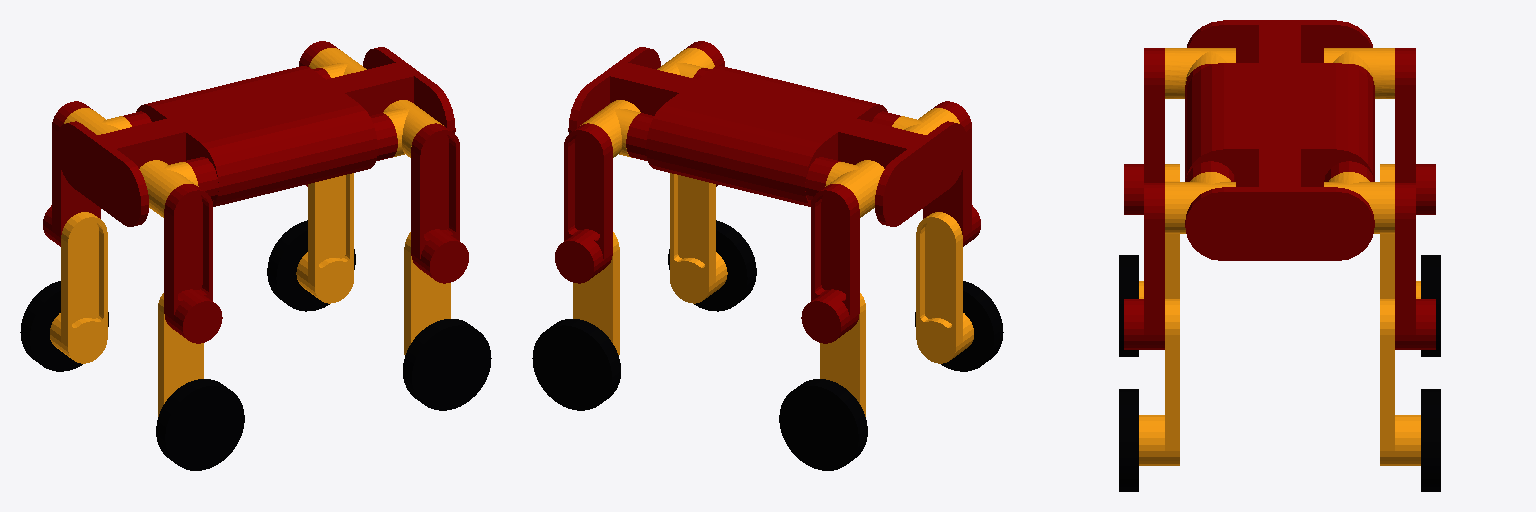
robot.urdf — M20:
<?xml version="1.0" encoding="utf-8"?>
<!-- This URDF was automatically created by SolidWorks to URDF Exporter! Originally created by Stephen Brawner (brawner@gmail.com) 
     Commit Version: 1.6.0-4-g7f85cfe  Build Version: 1.6.7995.38578
     For more information, please see http://wiki.ros.org/sw_urdf_exporter -->
<robot
  name="M20">
  <link
    name="base_link">
    <inertial>
      <origin
        xyz="0.00000000 0.00000000 0.00000000"
        rpy="0 0 0" />
      <mass
        value="5.40000000" />
      <inertia
        ixx="0.05712348"
        ixy="0.00000000"
        ixz="0.00000000"
        iyy="0.20307764"
        iyz="0.00000000"
        izz="0.24210920" />
    </inertial>
    <visual>
      <origin
        xyz="0 0 0"
        rpy="0 0 0" />
      <geometry>
        <mesh
          filename="../meshes/base_link.STL" />
      </geometry>
      <material
        name="ironman_red">
        <color
          rgba="0.55 0.02 0.02 1" />
      </material>
    </visual>
    <collision>
      <origin
        xyz="0 0 0"
        rpy="0 0 0" />
      <geometry>
        <mesh
          filename="../meshes/base_link.STL" />
      </geometry>
    </collision>
  </link>
  <link
    name="fr_hipx">
    <inertial>
      <origin
        xyz="-0.00547403 -0.01777122 0.00000000"
        rpy="0 0 0" />
      <mass
        value="0.65000000" />
      <inertia
        ixx="0.00143521"
        ixy="0.00006323"
        ixz="0.00000000"
        iyy="0.00094994"
        iyz="0.00000000"
        izz="0.00152887" />
    </inertial>
    <visual>
      <origin
        xyz="0 0 0"
        rpy="0 0 0" />
      <geometry>
        <mesh
          filename="../meshes/fr_hipx.STL" />
      </geometry>
      <material
        name="ironman_gold">
        <color
          rgba="1.00 0.64 0.10 1" />
      </material>
    </visual>
    <collision>
      <origin
        xyz="0 0 0"
        rpy="0 0 0" />
      <geometry>
        <mesh
          filename="../meshes/fr_hipx.STL" />
      </geometry>
    </collision>
  </link>
  <joint
    name="fr_hipx_joint"
    type="revolute">
    <origin
      xyz="0.31 -0.135 0"
      rpy="0 0 0" />
    <parent
      link="base_link" />
    <child
      link="fr_hipx" />
    <axis
      xyz="-1 0 0" />
    <limit
      lower="-0.61"
      upper="0.44"
      effort="260.0"
      velocity="22.4" />
  </joint>
  <link
    name="fr_hipy">
    <inertial>
      <origin
        xyz="0.00000000 -0.11915921 -0.18259020"
        rpy="0 0 0" />
      <mass
        value="0.80000000" />
      <inertia
        ixx="0.00800669"
        ixy="0.00000000"
        ixz="0.00000000"
        iyy="0.00827645"
        iyz="-0.00084194"
        izz="0.00113314" />
    </inertial>
    <visual>
      <origin
        xyz="0 0 0"
        rpy="0 0 0" />
      <geometry>
        <mesh
          filename="../meshes/fr_hipy.STL" />
      </geometry>
      <material
        name="ironman_red">
        <color
          rgba="0.55 0.02 0.02 1" />
      </material>
    </visual>
    <collision>
      <origin
        xyz="0 0 0"
        rpy="0 0 0" />
      <geometry>
        <mesh
          filename="../meshes/fr_hipy.STL" />
      </geometry>
    </collision>
  </link>
  <joint
    name="fr_hipy_joint"
    type="revolute">
    <origin
      xyz="0 0 0"
      rpy="0 0 0" />
    <parent
      link="fr_hipx" />
    <child
      link="fr_hipy" />
    <axis
      xyz="0 -1 0" />
    <limit
      lower="-2.58"
      upper="2.29"
      effort="260.0"
      velocity="22.4" />
  </joint>
  <link
    name="fr_knee">
    <inertial>
      <origin
        xyz="0.00000000 -0.00255432 -0.18862470"
        rpy="0 0 0" />
      <mass
        value="0.80000000" />
      <inertia
        ixx="0.00753786"
        ixy="0.00000000"
        ixz="0.00000000"
        iyy="0.00783237"
        iyz="-0.00061560"
        izz="0.00101839" />
    </inertial>
    <visual>
      <origin
        xyz="0 0 0"
        rpy="0 0 0" />
      <geometry>
        <mesh
          filename="../meshes/fr_knee.STL" />
      </geometry>
      <material
        name="ironman_gold">
        <color
          rgba="1.00 0.64 0.10 1" />
      </material>
    </visual>
    <collision>
      <origin
        xyz="0 0 0"
        rpy="0 0 0" />
      <geometry>
        <mesh
          filename="../meshes/fr_knee.STL" />
      </geometry>
    </collision>
  </link>
  <joint
    name="fr_knee_joint"
    type="revolute">
    <origin
      xyz="0 -0.09 -0.25"
      rpy="0 0 0" />
    <parent
      link="fr_hipy" />
    <child
      link="fr_knee" />
    <axis
      xyz="0 -1 0" />
    <limit
      lower="-2.79"
      upper="2.81"
      effort="260.0"
      velocity="22.4" />
  </joint>
  <link
    name="fr_wheel">
    <inertial>
      <origin
        xyz="0.00000000 0.00000000 0.00000000"
        rpy="0 0 0" />
      <mass
        value="0.15000000" />
      <inertia
        ixx="0.00039500"
        ixy="0.00000000"
        ixz="0.00000000"
        iyy="0.00075000"
        iyz="0.00000000"
        izz="0.00039500" />
    </inertial>
    <visual>
      <origin
        xyz="0 0 0"
        rpy="0 0 0" />
      <geometry>
        <mesh
          filename="../meshes/fr_wheel.STL" />
      </geometry>
      <material
        name="dark_graphite">
        <color
          rgba="0.03 0.03 0.035 1" />
      </material>
    </visual>
    <collision>
      <origin
        xyz="0 0 0"
        rpy="0 0 0" />
      <geometry>
        <mesh
          filename="../meshes/fr_wheel.STL" />
      </geometry>
    </collision>
  </link>
  <joint
    name="fr_wheel_joint"
    type="continuous">
    <origin
      xyz="0 -0.07 -0.25"
      rpy="0 0 0" />
    <parent
      link="fr_knee" />
    <child
      link="fr_wheel" />
    <axis
      xyz="0 -1 0" />
    <limit
      effort="160.0"
      velocity="79.3" />
  </joint>
  <link
    name="fl_hipx">
    <inertial>
      <origin
        xyz="-0.00547403 0.01777122 0.00000000"
        rpy="0 0 0" />
      <mass
        value="0.65000000" />
      <inertia
        ixx="0.00143521"
        ixy="-0.00006323"
        ixz="0.00000000"
        iyy="0.00094994"
        iyz="0.00000000"
        izz="0.00152887" />
    </inertial>
    <visual>
      <origin
        xyz="0 0 0"
        rpy="0 0 0" />
      <geometry>
        <mesh
          filename="../meshes/fl_hipx.STL" />
      </geometry>
      <material
        name="ironman_gold">
        <color
          rgba="1.00 0.64 0.10 1" />
      </material>
    </visual>
    <collision>
      <origin
        xyz="0 0 0"
        rpy="0 0 0" />
      <geometry>
        <mesh
          filename="../meshes/fl_hipx.STL" />
      </geometry>
    </collision>
  </link>
  <joint
    name="fl_hipx_joint"
    type="revolute">
    <origin
      xyz="0.31 0.135 0"
      rpy="0 0 0" />
    <parent
      link="base_link" />
    <child
      link="fl_hipx" />
    <axis
      xyz="-1 0 0" />
    <limit
      lower="-0.44"
      upper="0.61"
      effort="260.0"
      velocity="22.4" />
  </joint>
  <link
    name="fl_hipy">
    <inertial>
      <origin
        xyz="0.00000000 0.11915922 -0.18259020"
        rpy="0 0 0" />
      <mass
        value="0.80000000" />
      <inertia
        ixx="0.00800669"
        ixy="0.00000000"
        ixz="0.00000000"
        iyy="0.00827645"
        iyz="0.00084194"
        izz="0.00113314" />
    </inertial>
    <visual>
      <origin
        xyz="0 0 0"
        rpy="0 0 0" />
      <geometry>
        <mesh
          filename="../meshes/fl_hipy.STL" />
      </geometry>
      <material
        name="ironman_red">
        <color
          rgba="0.55 0.02 0.02 1" />
      </material>
    </visual>
    <collision>
      <origin
        xyz="0 0 0"
        rpy="0 0 0" />
      <geometry>
        <mesh
          filename="../meshes/fl_hipy.STL" />
      </geometry>
    </collision>
  </link>
  <joint
    name="fl_hipy_joint"
    type="revolute">
    <origin
      xyz="0 0 0"
      rpy="0 0 0" />
    <parent
      link="fl_hipx" />
    <child
      link="fl_hipy" />
    <axis
      xyz="0 -1 0" />
    <limit
      lower="-2.58"
      upper="2.29"
      effort="260.0"
      velocity="22.4" />
  </joint>
  <link
    name="fl_knee">
    <inertial>
      <origin
        xyz="0.00000000 0.00255432 -0.18862470"
        rpy="0 0 0" />
      <mass
        value="0.80000000" />
      <inertia
        ixx="0.00753786"
        ixy="0.00000000"
        ixz="0.00000000"
        iyy="0.00783237"
        iyz="0.00061560"
        izz="0.00101839" />
    </inertial>
    <visual>
      <origin
        xyz="0 0 0"
        rpy="0 0 0" />
      <geometry>
        <mesh
          filename="../meshes/fl_knee.STL" />
      </geometry>
      <material
        name="ironman_gold">
        <color
          rgba="1.00 0.64 0.10 1" />
      </material>
    </visual>
    <collision>
      <origin
        xyz="0 0 0"
        rpy="0 0 0" />
      <geometry>
        <mesh
          filename="../meshes/fl_knee.STL" />
      </geometry>
    </collision>
  </link>
  <joint
    name="fl_knee_joint"
    type="revolute">
    <origin
      xyz="0 0.09 -0.25"
      rpy="0 0 0" />
    <parent
      link="fl_hipy" />
    <child
      link="fl_knee" />
    <axis
      xyz="0 -1 0" />
    <limit
      lower="-2.79"
      upper="2.81"
      effort="260.0"
      velocity="22.4" />
  </joint>
  <link
    name="fl_wheel">
    <inertial>
      <origin
        xyz="0.00000000 0.00000000 0.00000000"
        rpy="0 0 0" />
      <mass
        value="0.15000000" />
      <inertia
        ixx="0.00039500"
        ixy="0.00000000"
        ixz="0.00000000"
        iyy="0.00075000"
        iyz="0.00000000"
        izz="0.00039500" />
    </inertial>
    <visual>
      <origin
        xyz="0 0 0"
        rpy="0 0 0" />
      <geometry>
        <mesh
          filename="../meshes/fl_wheel.STL" />
      </geometry>
      <material
        name="dark_graphite">
        <color
          rgba="0.03 0.03 0.035 1" />
      </material>
    </visual>
    <collision>
      <origin
        xyz="0 0 0"
        rpy="0 0 0" />
      <geometry>
        <mesh
          filename="../meshes/fl_wheel.STL" />
      </geometry>
    </collision>
  </link>
  <joint
    name="fl_wheel_joint"
    type="continuous">
    <origin
      xyz="0 0.07 -0.25"
      rpy="0 0 0" />
    <parent
      link="fl_knee" />
    <child
      link="fl_wheel" />
    <axis
      xyz="0 -1 0" />
    <limit
      effort="160.0"
      velocity="79.3" />
  </joint>
  <link
    name="hr_hipx">
    <inertial>
      <origin
        xyz="0.00547403 -0.01777122 0.00000000"
        rpy="0 0 0" />
      <mass
        value="0.65000000" />
      <inertia
        ixx="0.00143521"
        ixy="-0.00006323"
        ixz="0.00000000"
        iyy="0.00094994"
        iyz="0.00000000"
        izz="0.00152887" />
    </inertial>
    <visual>
      <origin
        xyz="0 0 0"
        rpy="0 0 0" />
      <geometry>
        <mesh
          filename="../meshes/hr_hipx.STL" />
      </geometry>
      <material
        name="ironman_gold">
        <color
          rgba="1.00 0.64 0.10 1" />
      </material>
    </visual>
    <collision>
      <origin
        xyz="0 0 0"
        rpy="0 0 0" />
      <geometry>
        <mesh
          filename="../meshes/hr_hipx.STL" />
      </geometry>
    </collision>
  </link>
  <joint
    name="hr_hipx_joint"
    type="revolute">
    <origin
      xyz="-0.31 -0.135 0"
      rpy="0 0 0" />
    <parent
      link="base_link" />
    <child
      link="hr_hipx" />
    <axis
      xyz="-1 0 0" />
    <limit
      lower="-0.61"
      upper="0.44"
      effort="260.0"
      velocity="22.4" />
  </joint>
  <link
    name="hr_hipy">
    <inertial>
      <origin
        xyz="0.00000000 -0.11915921 -0.18259020"
        rpy="0 0 0" />
      <mass
        value="0.80000000" />
      <inertia
        ixx="0.00800669"
        ixy="0.00000000"
        ixz="0.00000000"
        iyy="0.00827645"
        iyz="-0.00084194"
        izz="0.00113314" />
    </inertial>
    <visual>
      <origin
        xyz="0 0 0"
        rpy="0 0 0" />
      <geometry>
        <mesh
          filename="../meshes/hr_hipy.STL" />
      </geometry>
      <material
        name="ironman_red">
        <color
          rgba="0.55 0.02 0.02 1" />
      </material>
    </visual>
    <collision>
      <origin
        xyz="0 0 0"
        rpy="0 0 0" />
      <geometry>
        <mesh
          filename="../meshes/hr_hipy.STL" />
      </geometry>
    </collision>
  </link>
  <joint
    name="hr_hipy_joint"
    type="revolute">
    <origin
      xyz="0 0 0"
      rpy="0 0 0" />
    <parent
      link="hr_hipx" />
    <child
      link="hr_hipy" />
    <axis
      xyz="0 -1 0" />
    <limit
      lower="-2.29"
      upper="2.58"
      effort="260.0"
      velocity="22.4" />
  </joint>
  <link
    name="hr_knee">
    <inertial>
      <origin
        xyz="0.00000000 -0.00255432 -0.18862470"
        rpy="0 0 0" />
      <mass
        value="0.80000000" />
      <inertia
        ixx="0.00753786"
        ixy="0.00000000"
        ixz="0.00000000"
        iyy="0.00783237"
        iyz="-0.00061560"
        izz="0.00101839" />
    </inertial>
    <visual>
      <origin
        xyz="0 0 0"
        rpy="0 0 0" />
      <geometry>
        <mesh
          filename="../meshes/hr_knee.STL" />
      </geometry>
      <material
        name="ironman_gold">
        <color
          rgba="1.00 0.64 0.10 1" />
      </material>
    </visual>
    <collision>
      <origin
        xyz="0 0 0"
        rpy="0 0 0" />
      <geometry>
        <mesh
          filename="../meshes/hr_knee.STL" />
      </geometry>
    </collision>
  </link>
  <joint
    name="hr_knee_joint"
    type="revolute">
    <origin
      xyz="0 -0.09 -0.25"
      rpy="0 0 0" />
    <parent
      link="hr_hipy" />
    <child
      link="hr_knee" />
    <axis
      xyz="0 -1 0" />
    <limit
      lower="-2.81"
      upper="2.79"
      effort="260.0"
      velocity="22.4" />
  </joint>
  <link
    name="hr_wheel">
    <inertial>
      <origin
        xyz="0.00000000 0.00000000 0.00000000"
        rpy="0 0 0" />
      <mass
        value="0.15000000" />
      <inertia
        ixx="0.00039500"
        ixy="0.00000000"
        ixz="0.00000000"
        iyy="0.00075000"
        iyz="0.00000000"
        izz="0.00039500" />
    </inertial>
    <visual>
      <origin
        xyz="0 0 0"
        rpy="0 0 0" />
      <geometry>
        <mesh
          filename="../meshes/hr_wheel.STL" />
      </geometry>
      <material
        name="dark_graphite">
        <color
          rgba="0.03 0.03 0.035 1" />
      </material>
    </visual>
    <collision>
      <origin
        xyz="0 0 0"
        rpy="0 0 0" />
      <geometry>
        <mesh
          filename="../meshes/hr_wheel.STL" />
      </geometry>
    </collision>
  </link>
  <joint
    name="hr_wheel_joint"
    type="continuous">
    <origin
      xyz="0 -0.07 -0.25"
      rpy="0 0 0" />
    <parent
      link="hr_knee" />
    <child
      link="hr_wheel" />
    <axis
      xyz="0 -1 0" />
    <limit
      effort="160.0"
      velocity="79.3" />
  </joint>
  <link
    name="hl_hipx">
    <inertial>
      <origin
        xyz="0.00547403 0.01777122 0.00000000"
        rpy="0 0 0" />
      <mass
        value="0.65000000" />
      <inertia
        ixx="0.00143521"
        ixy="0.00006323"
        ixz="0.00000000"
        iyy="0.00094994"
        iyz="0.00000000"
        izz="0.00152887" />
    </inertial>
    <visual>
      <origin
        xyz="0 0 0"
        rpy="0 0 0" />
      <geometry>
        <mesh
          filename="../meshes/hl_hipx.STL" />
      </geometry>
      <material
        name="ironman_gold">
        <color
          rgba="1.00 0.64 0.10 1" />
      </material>
    </visual>
    <collision>
      <origin
        xyz="0 0 0"
        rpy="0 0 0" />
      <geometry>
        <mesh
          filename="../meshes/hl_hipx.STL" />
      </geometry>
    </collision>
  </link>
  <joint
    name="hl_hipx_joint"
    type="revolute">
    <origin
      xyz="-0.31 0.135 0"
      rpy="0 0 0" />
    <parent
      link="base_link" />
    <child
      link="hl_hipx" />
    <axis
      xyz="-1 0 0" />
    <limit
      lower="-0.44"
      upper="0.61"
      effort="260.0"
      velocity="22.4" />
  </joint>
  <link
    name="hl_hipy">
    <inertial>
      <origin
        xyz="0.00000000 0.11915922 -0.18259020"
        rpy="0 0 0" />
      <mass
        value="0.80000000" />
      <inertia
        ixx="0.00800669"
        ixy="0.00000000"
        ixz="0.00000000"
        iyy="0.00827645"
        iyz="0.00084194"
        izz="0.00113314" />
    </inertial>
    <visual>
      <origin
        xyz="0 0 0"
        rpy="0 0 0" />
      <geometry>
        <mesh
          filename="../meshes/hl_hipy.STL" />
      </geometry>
      <material
        name="ironman_red">
        <color
          rgba="0.55 0.02 0.02 1" />
      </material>
    </visual>
    <collision>
      <origin
        xyz="0 0 0"
        rpy="0 0 0" />
      <geometry>
        <mesh
          filename="../meshes/hl_hipy.STL" />
      </geometry>
    </collision>
  </link>
  <joint
    name="hl_hipy_joint"
    type="revolute">
    <origin
      xyz="0 0 0"
      rpy="0 0 0" />
    <parent
      link="hl_hipx" />
    <child
      link="hl_hipy" />
    <axis
      xyz="0 -1 0" />
    <limit
      lower="-2.29"
      upper="2.58"
      effort="260.0"
      velocity="22.4" />
  </joint>
  <link
    name="hl_knee">
    <inertial>
      <origin
        xyz="0.00000000 0.00255432 -0.18862470"
        rpy="0 0 0" />
      <mass
        value="0.80000000" />
      <inertia
        ixx="0.00753786"
        ixy="0.00000000"
        ixz="0.00000000"
        iyy="0.00783237"
        iyz="0.00061560"
        izz="0.00101839" />
    </inertial>
    <visual>
      <origin
        xyz="0 0 0"
        rpy="0 0 0" />
      <geometry>
        <mesh
          filename="../meshes/hl_knee.STL" />
      </geometry>
      <material
        name="ironman_gold">
        <color
          rgba="1.00 0.64 0.10 1" />
      </material>
    </visual>
    <collision>
      <origin
        xyz="0 0 0"
        rpy="0 0 0" />
      <geometry>
        <mesh
          filename="../meshes/hl_knee.STL" />
      </geometry>
    </collision>
  </link>
  <joint
    name="hl_knee_joint"
    type="revolute">
    <origin
      xyz="0 0.09 -0.25"
      rpy="0 0 0" />
    <parent
      link="hl_hipy" />
    <child
      link="hl_knee" />
    <axis
      xyz="0 -1 0" />
    <limit
      lower="-2.81"
      upper="2.79"
      effort="260.0"
      velocity="22.4" />
  </joint>
  <link
    name="hl_wheel">
    <inertial>
      <origin
        xyz="0.00000000 0.00000000 0.00000000"
        rpy="0 0 0" />
      <mass
        value="0.15000000" />
      <inertia
        ixx="0.00039500"
        ixy="0.00000000"
        ixz="0.00000000"
        iyy="0.00075000"
        iyz="0.00000000"
        izz="0.00039500" />
    </inertial>
    <visual>
      <origin
        xyz="0 0 0"
        rpy="0 0 0" />
      <geometry>
        <mesh
          filename="../meshes/hl_wheel.STL" />
      </geometry>
      <material
        name="dark_graphite">
        <color
          rgba="0.03 0.03 0.035 1" />
      </material>
    </visual>
    <collision>
      <origin
        xyz="0 0 0"
        rpy="0 0 0" />
      <geometry>
        <mesh
          filename="../meshes/hl_wheel.STL" />
      </geometry>
    </collision>
  </link>
  <joint
    name="hl_wheel_joint"
    type="continuous">
    <origin
      xyz="0 0.07 -0.25"
      rpy="0 0 0" />
    <parent
      link="hl_knee" />
    <child
      link="hl_wheel" />
    <axis
      xyz="0 -1 0" />
    <limit
      effort="160.0"
      velocity="79.3" />
  </joint>
</robot>

--- What the picture shows (computed from the rendered views, not written in the file) ---
The picture shows the robot from 3 angles, left to right: view 1: azimuth 30°, elevation 25°; view 2: azimuth 150°, elevation 25°; view 3: azimuth 270°, elevation 25°; orthographic projection.
Robot: M20 — 17 links, 16 joints (12 revolute, 4 continuous); root link base_link; default pose: every joint at zero.
Links seen in each view (by area): view 1: base_link, fr_hipy, hr_hipy, hl_knee, hr_wheel, fr_wheel, fl_knee, fr_knee, hr_knee, fl_wheel, hl_wheel, hl_hipy (+4 smaller); view 2: base_link, fl_hipy, hl_hipy, hr_knee, hl_wheel, fl_wheel, fr_knee, fl_knee, hl_knee, fr_wheel, hr_wheel, hr_hipy (+4 smaller); view 3: base_link, fr_hipy, fl_hipy, hr_hipy, hl_hipy, fr_knee, fl_knee, fr_wheel, fl_wheel, hr_hipx, hl_hipx, fr_hipx (+5 smaller).
Boxes of the visible links, x1=… form: base_link: x1=56, y1=47, x2=455, y2=226; fr_hipy: x1=411, y1=123, x2=468, y2=283; hr_hipy: x1=164, y1=184, x2=222, y2=343; hl_knee: x1=50, y1=212, x2=107, y2=363; hr_wheel: x1=156, y1=379, x2=244, y2=470; fr_wheel: x1=403, y1=319, x2=491, y2=410; fl_knee: x1=296, y1=173, x2=353, y2=303; fr_knee: x1=404, y1=232, x2=450, y2=354; hr_knee: x1=158, y1=293, x2=203, y2=416; fl_wheel: x1=267, y1=220, x2=355, y2=311; hl_wheel: x1=20, y1=281, x2=108, y2=371; hl_hipy: x1=43, y1=101, x2=100, y2=246; base_link: x1=568, y1=47, x2=967, y2=226; fl_hipy: x1=555, y1=123, x2=612, y2=283; hl_hipy: x1=801, y1=184, x2=859, y2=343; hr_knee: x1=916, y1=212, x2=973, y2=363; hl_wheel: x1=779, y1=379, x2=867, y2=470; fl_wheel: x1=532, y1=319, x2=620, y2=410; fr_knee: x1=670, y1=173, x2=727, y2=303; fl_knee: x1=573, y1=232, x2=619, y2=354; hl_knee: x1=820, y1=293, x2=865, y2=416; fr_wheel: x1=668, y1=220, x2=756, y2=311; hr_wheel: x1=915, y1=281, x2=1003, y2=371; hr_hipy: x1=923, y1=101, x2=980, y2=246; base_link: x1=1185, y1=20, x2=1374, y2=260; fr_hipy: x1=1124, y1=183, x2=1164, y2=349; fl_hipy: x1=1395, y1=183, x2=1435, y2=349; hr_hipy: x1=1124, y1=48, x2=1164, y2=214; hl_hipy: x1=1395, y1=48, x2=1435, y2=214; fr_knee: x1=1139, y1=299, x2=1179, y2=465; fl_knee: x1=1380, y1=299, x2=1420, y2=465; fr_wheel: x1=1119, y1=389, x2=1138, y2=491; fl_wheel: x1=1421, y1=389, x2=1440, y2=491; hr_hipx: x1=1165, y1=48, x2=1235, y2=98; hl_hipx: x1=1324, y1=48, x2=1394, y2=98; fr_hipx: x1=1165, y1=172, x2=1235, y2=233.
Size in the robot's own frame: 0.82 by 0.63 by 0.6749 metres.
Meshes: 17 distinct files referenced, 17 mesh visuals loaded (17 binary STL).
